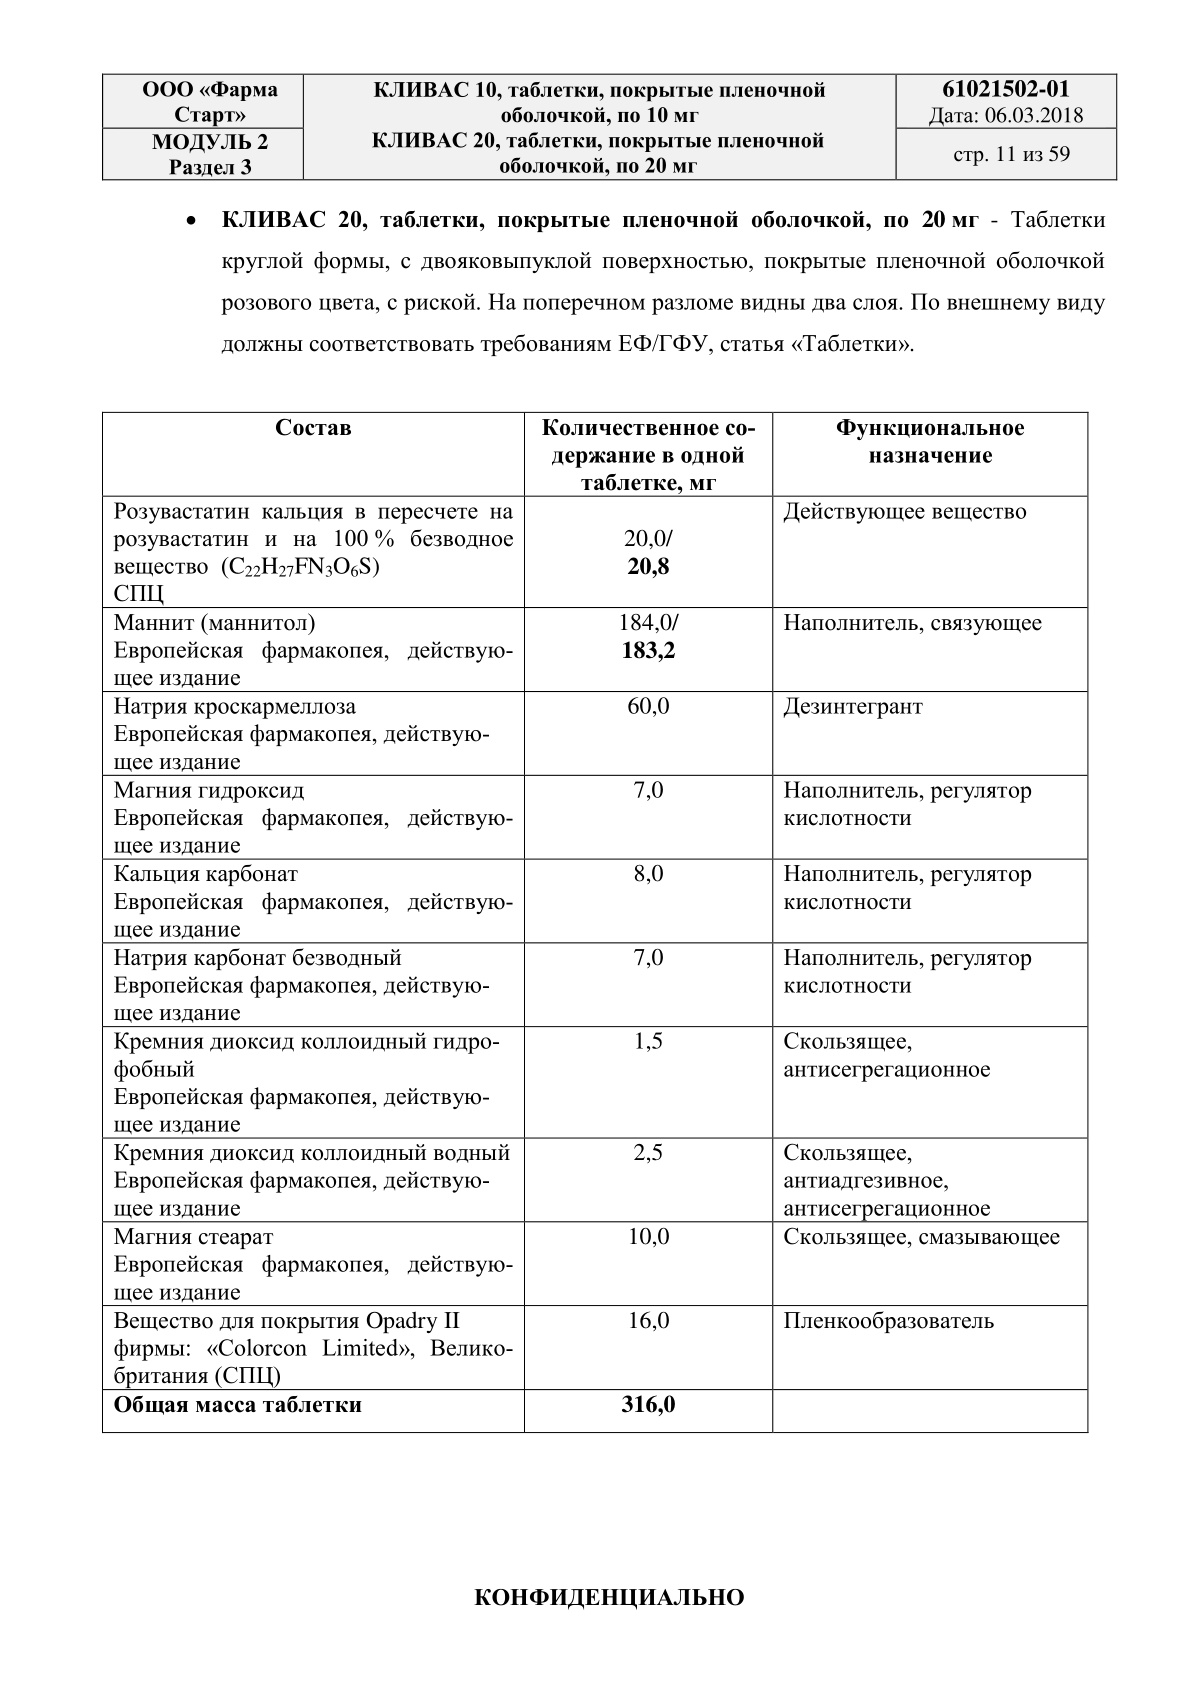full_lined: (101, 411, 1089, 1434)
merged_cells: (101, 73, 1118, 180)
